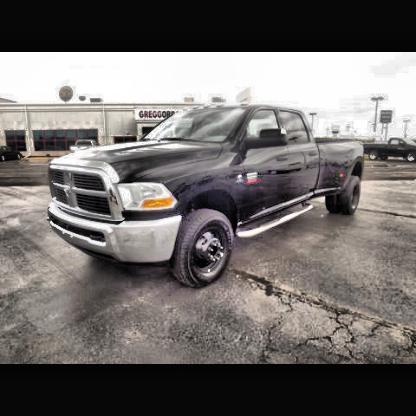Dodge Ram Pickup 3500 Crew Cab 2010: (38, 91, 375, 288)
